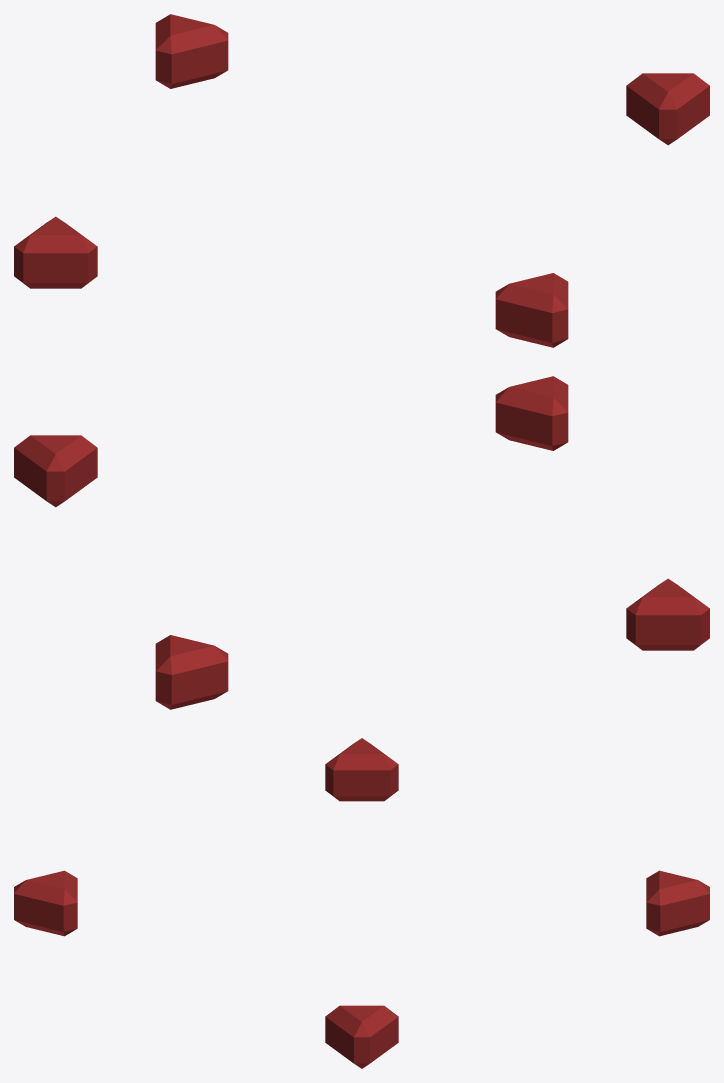
The model's file is Pointing_arrow.fbx.
The picture shows the model from 3 angles, top to bottom: view 1: azimuth 30°, elevation 25°; view 2: azimuth 150°, elevation 25°; view 3: azimuth 270°, elevation 25°; orthographic projection. The views are drawn at different scales.
Parts seen in each view (by area): view 1: pCylinder1, pCylinder5, pCylinder3, pCylinder4; view 2: pCylinder1, pCylinder5, pCylinder3, pCylinder4; view 3: pCylinder1, pCylinder5, pCylinder3, pCylinder4.
Boxes of the visible parts, left/top/right/bottom form: pCylinder1: left=626, top=73, right=709, bottom=145; pCylinder5: left=14, top=216, right=97, bottom=288; pCylinder3: left=495, top=273, right=568, bottom=347; pCylinder4: left=155, top=14, right=228, bottom=88; pCylinder1: left=14, top=435, right=97, bottom=507; pCylinder5: left=626, top=578, right=709, bottom=650; pCylinder3: left=495, top=376, right=568, bottom=450; pCylinder4: left=155, top=635, right=228, bottom=709; pCylinder1: left=325, top=1005, right=398, bottom=1068; pCylinder5: left=325, top=738, right=398, bottom=801; pCylinder3: left=14, top=870, right=77, bottom=936; pCylinder4: left=646, top=870, right=709, bottom=936.
Bounding box in the file's own units: 13.46 × 1 × 13.46.
